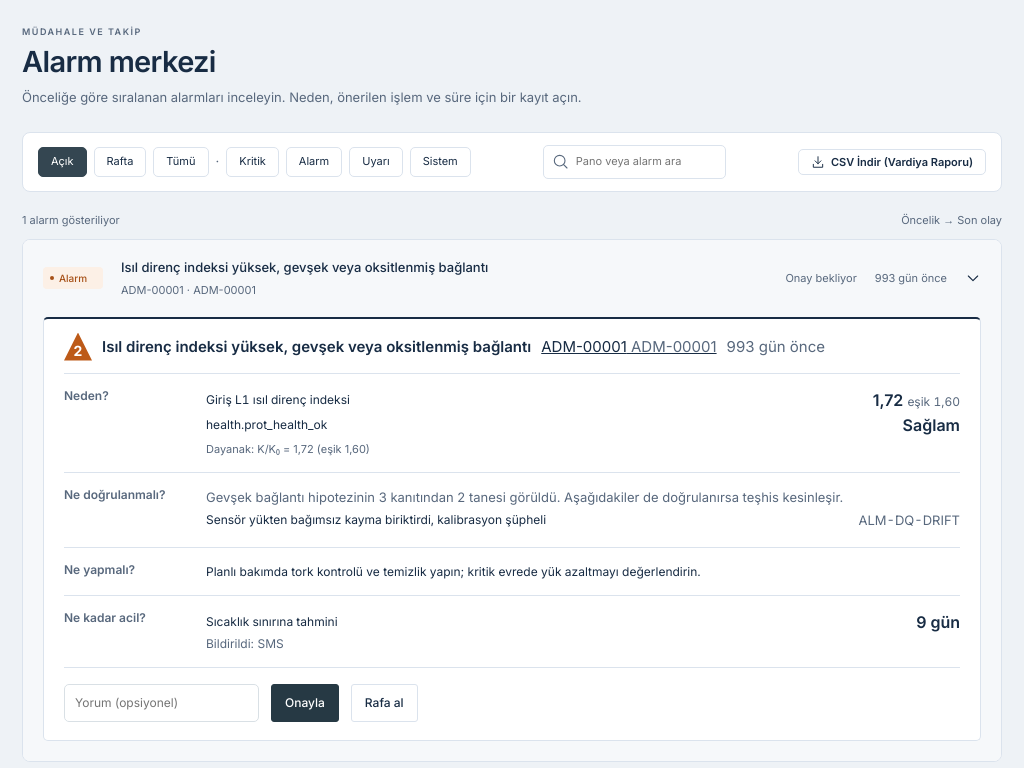
Test case: AlarmKonsolu — belirtecsiz onay › onay BASARILI olunca hata degil onay metni cikar
Click the button "Onayla": (305, 703) [271,684,339,722]
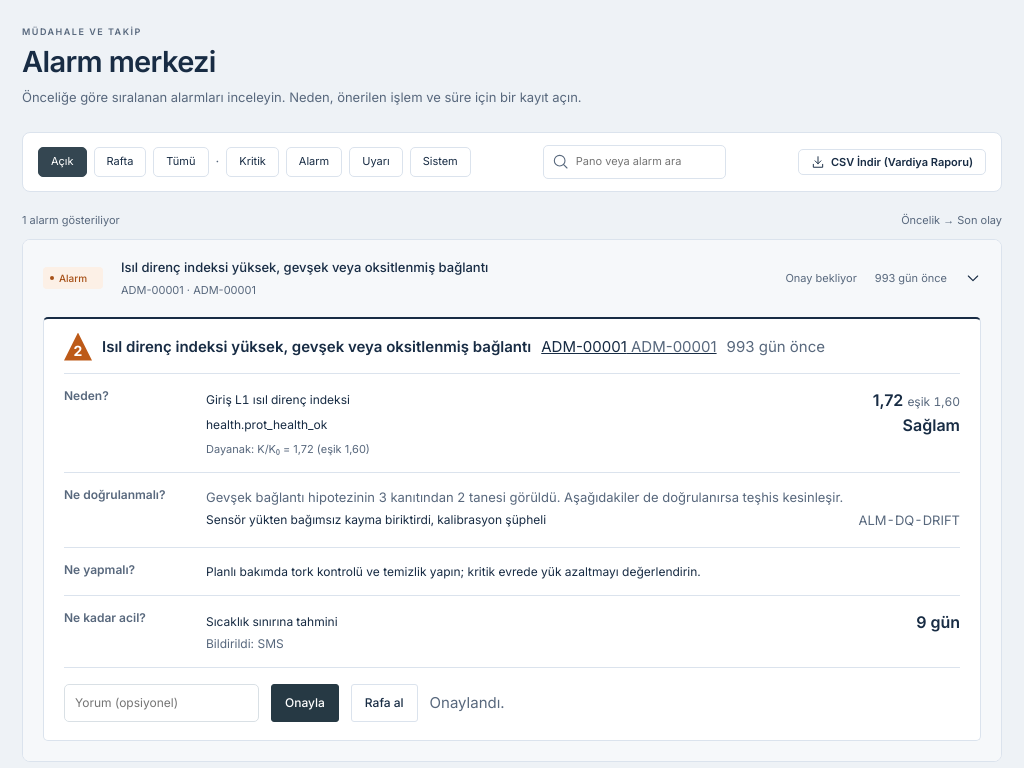
Check: the text "Onaylandı." is shown, box [430,691,505,715]
